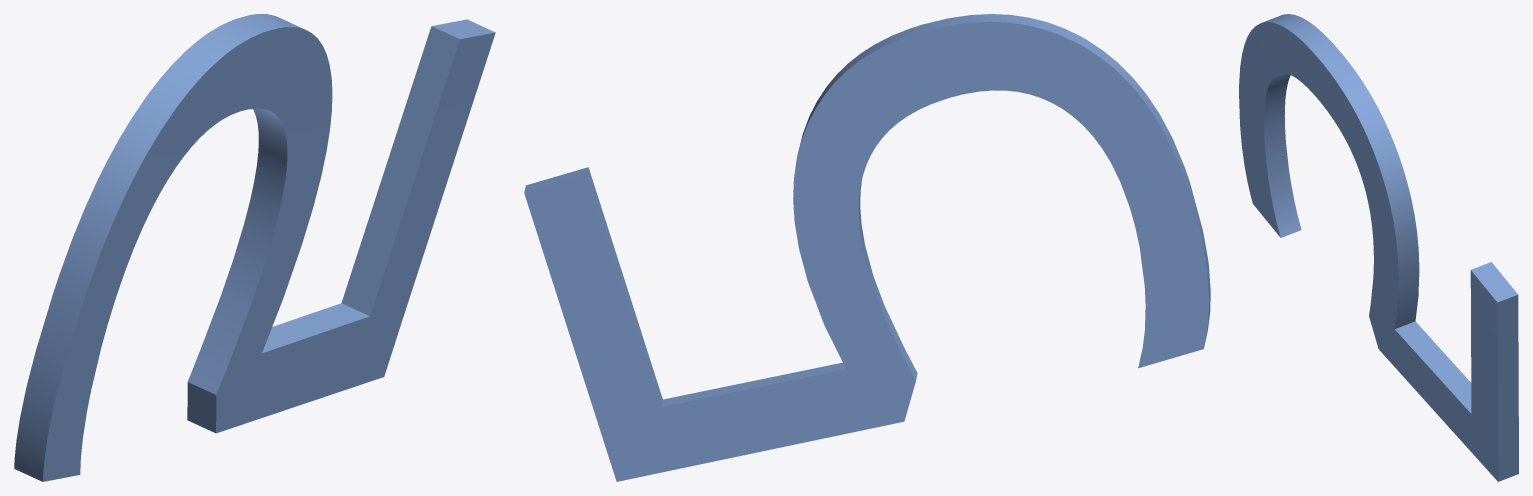
File: New_Number_5.gltf
3 renders of one model, left to right at view 1: azimuth 30°, elevation 25°; view 2: azimuth 150°, elevation 25°; view 3: azimuth 270°, elevation 25°, orthographic. The views are drawn at different scales.
Parts seen in each view (by area): view 1: Part 554; view 2: Part 554; view 3: Part 554.
Boxes of the visible parts, x1,y1,x2,y2 form: Part 554: (14,14,495,481); Part 554: (524,14,1210,481); Part 554: (1239,14,1518,481).
Bounding box in the file's own units: 0.00547 × 0.00418 × 0.00301.
